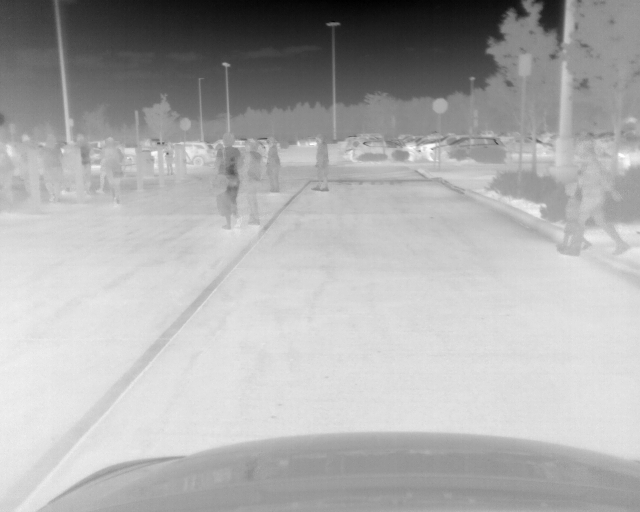car: (431, 138, 507, 163), (148, 142, 215, 165), (353, 140, 418, 162), (507, 137, 554, 156), (422, 142, 445, 162), (297, 136, 315, 146), (345, 149, 353, 160)
people: (559, 139, 629, 256), (212, 133, 242, 228), (557, 182, 589, 253), (240, 138, 261, 227), (15, 133, 38, 200), (42, 136, 64, 202), (72, 135, 95, 198), (103, 139, 123, 206), (1, 141, 15, 211), (265, 141, 283, 193), (311, 138, 328, 193), (97, 148, 108, 196), (162, 144, 175, 176)
